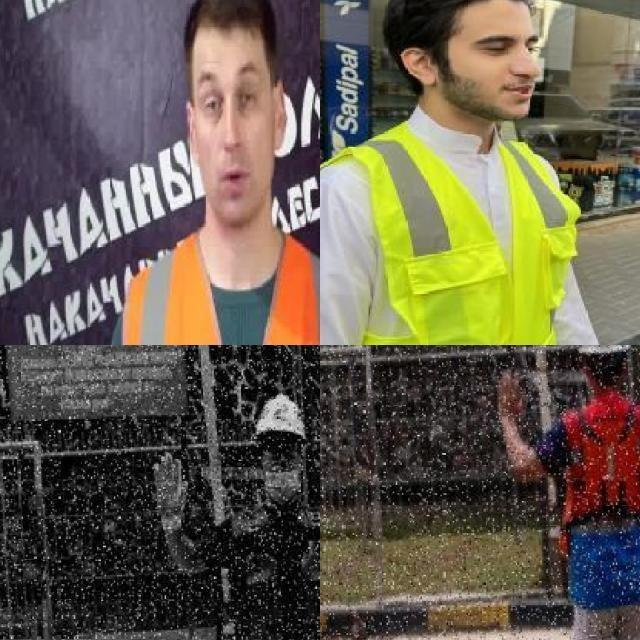apron: (153, 452, 189, 534)
